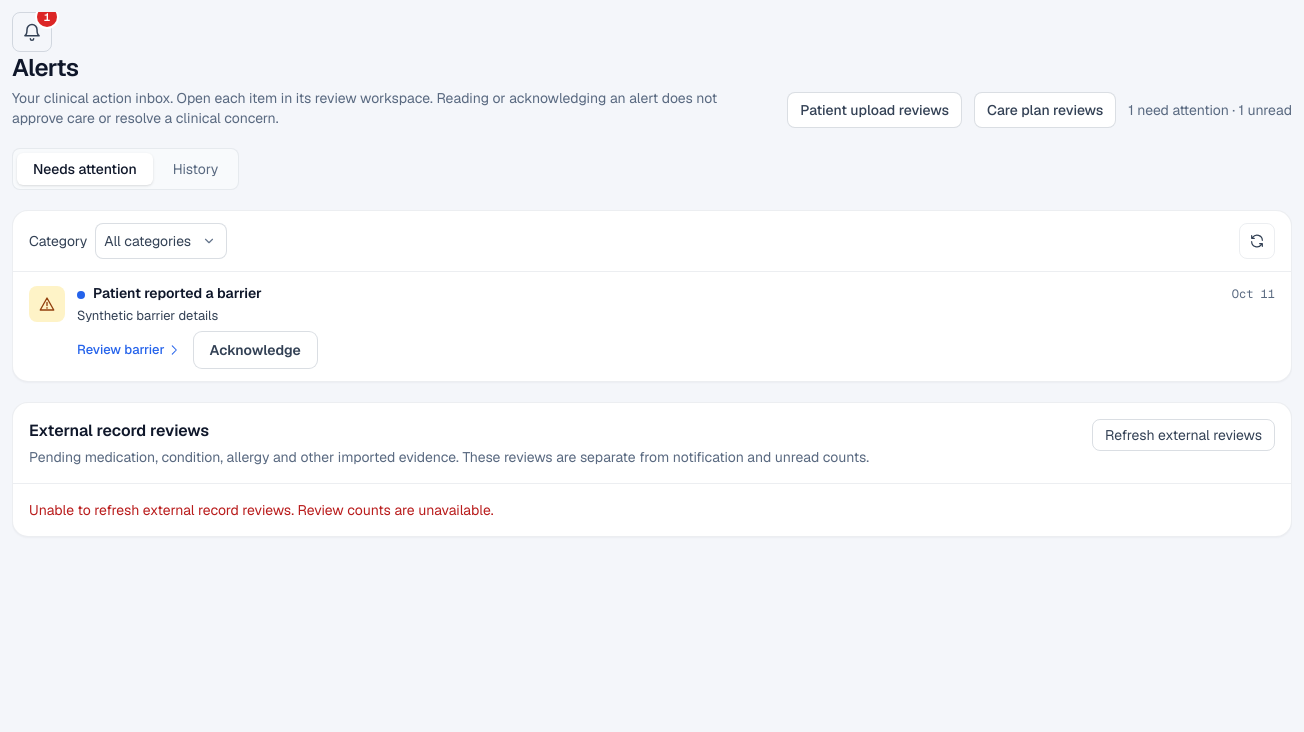
Scenario: clinician notification centre › shares one cache between bell and Alerts, with no legacy archive on Alerts
Check: the heading "Patient reported a barrier" is shown, box [92, 283, 262, 302]
Check: the text "Your clinical action inbox" is shown, box [12, 89, 717, 127]
What coordinates should you click on to do the following:
click the button "History"
I would click on:
 (195, 169)
Its box is [157, 153, 234, 185].
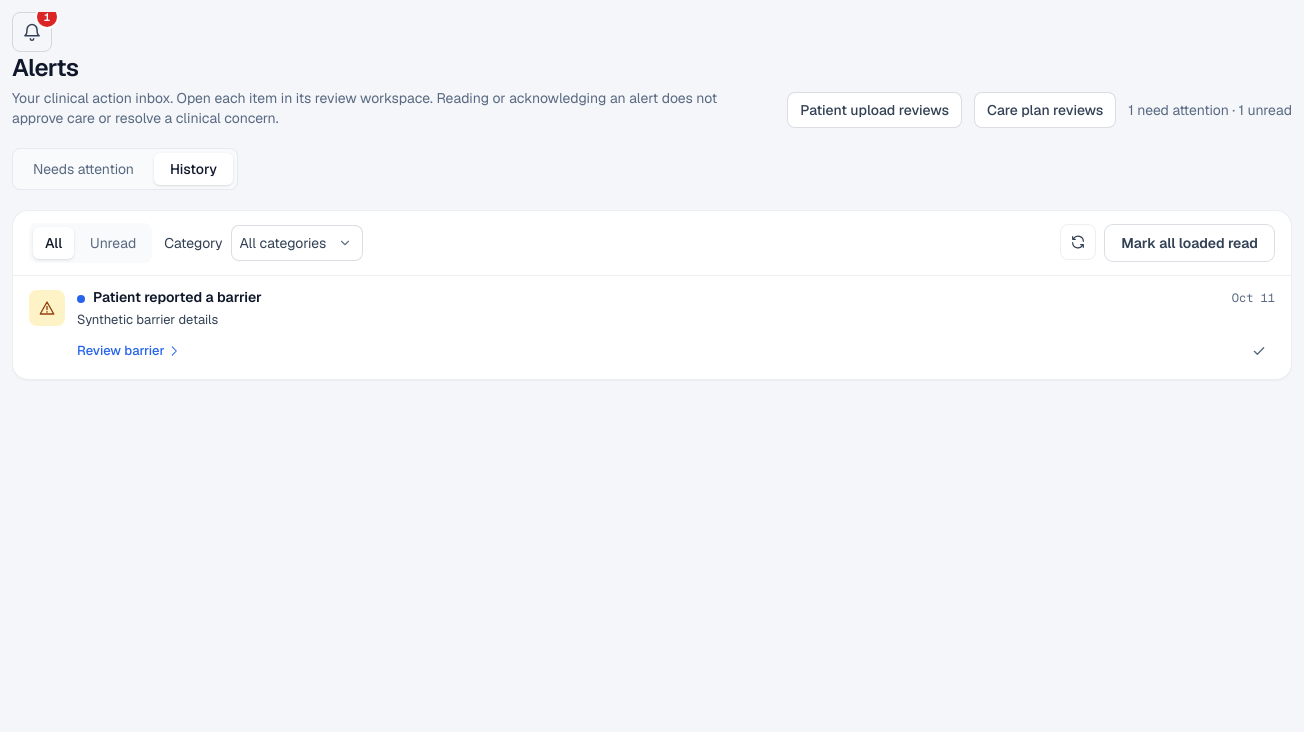
Check: the button "Acknowledge" is gone
